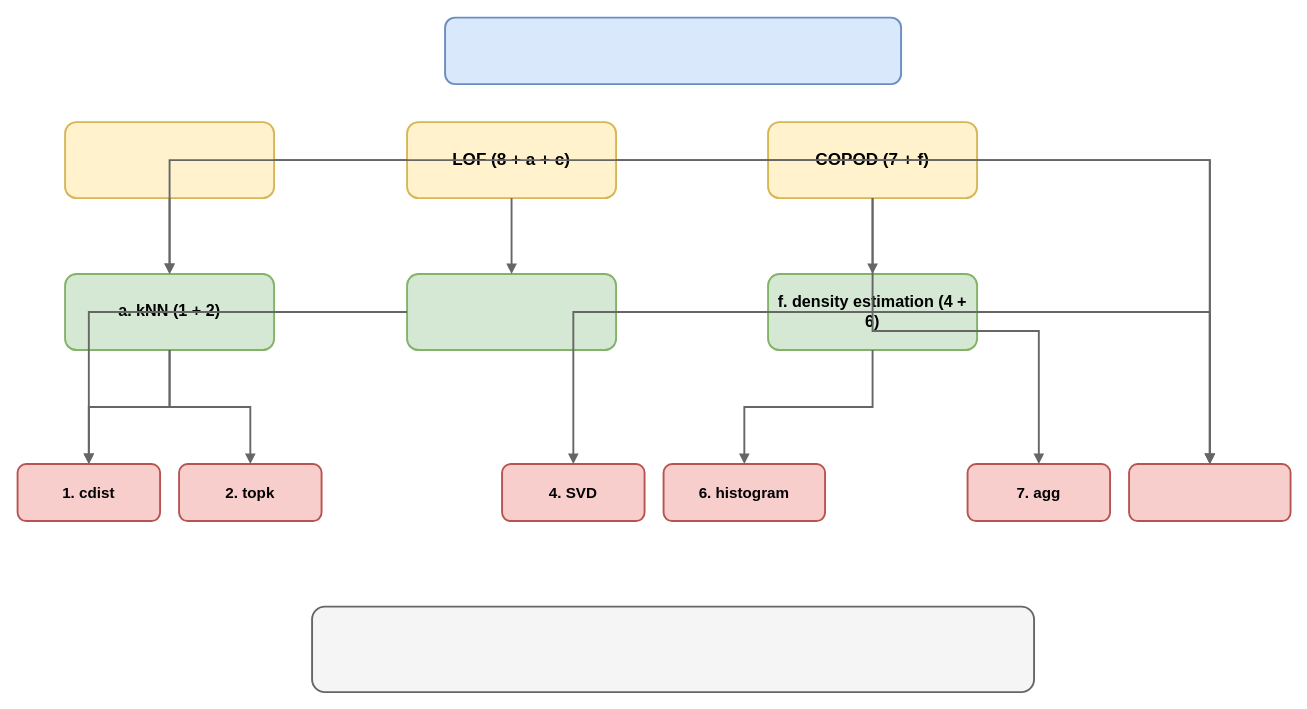
Image size: 1307x709. Some labels were removed from this diagram. The shapes that lost their labels are listed below. From the top down, each one's centre as x and y in pixels, then its label:
At [673,50]: "典型异常检测算法到张量算子的映射".
At [169,160]: "kNN (8 + a)".
At [511,312]: "c. neighbors within range (1 + 8)".
At [1209,492]: "8. basic ops".
At [673,649]: "说明：算法 → 功能算子（FO）→ 基础张量算子（BTO） PyTOD 通过这种映射把经典异常检测方法转化为 GPU 张量执行语义".
